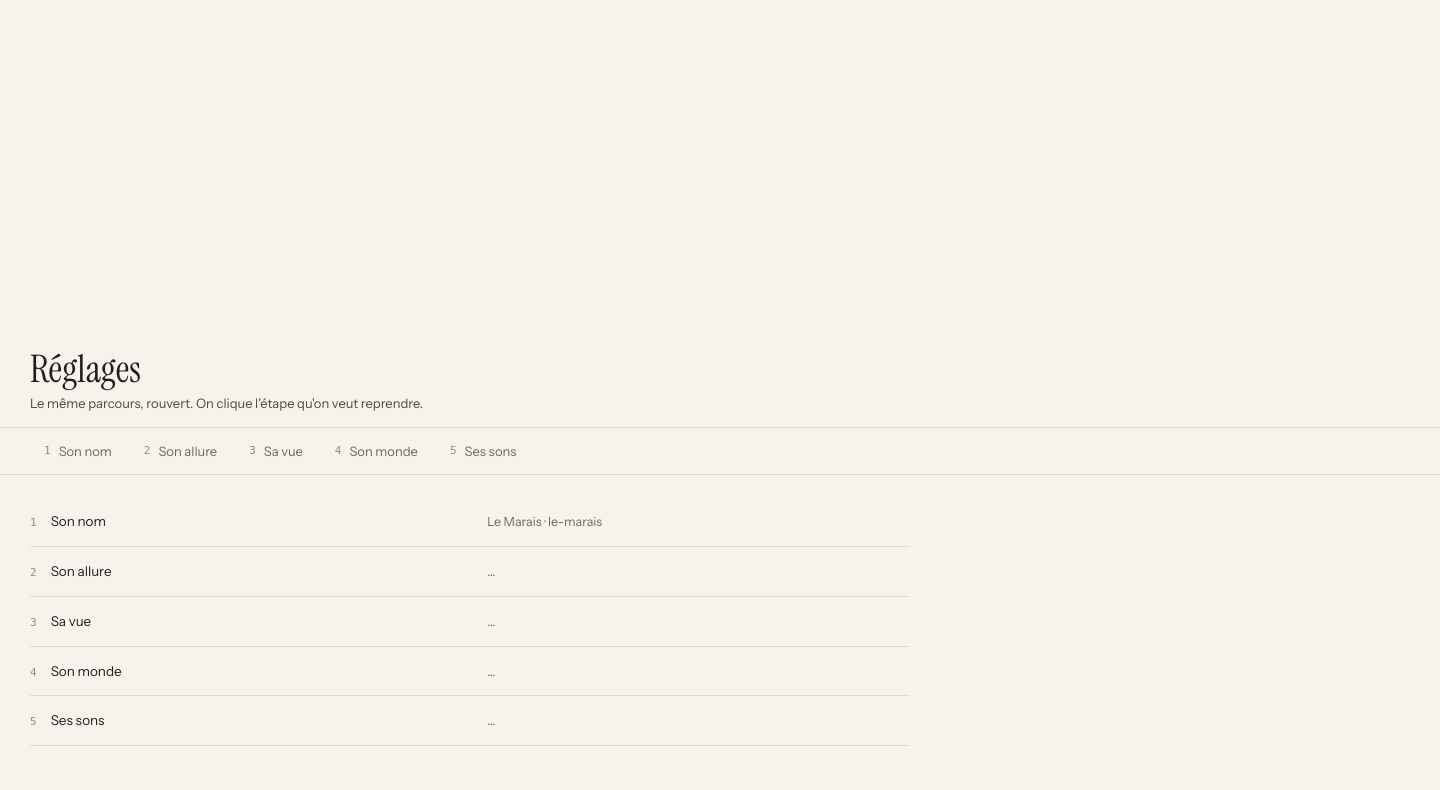
Test case: le texte de caméra › il est celui du serveur, au caractère près — jamais une paraphrase
(page scrolled)
Click the button "3 Sa vue" at [276, 451], box [235, 436, 317, 466]
(page scrolled)
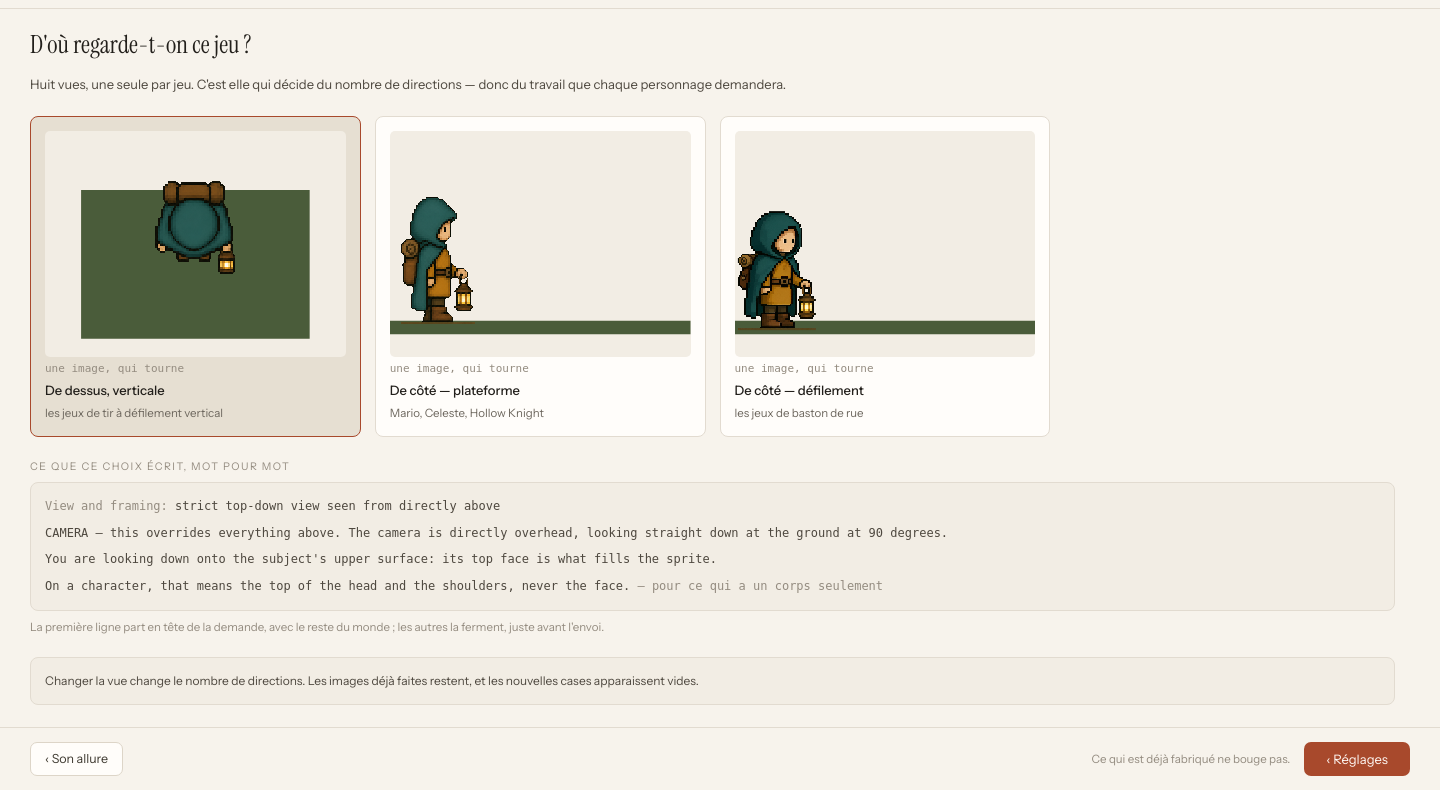
Expected: the text "On a character, that means the top of th" is shown, [45, 579, 630, 593]
